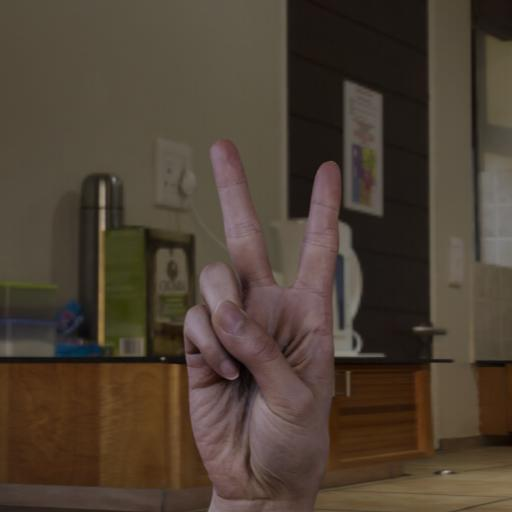V: (175, 134, 357, 508)
